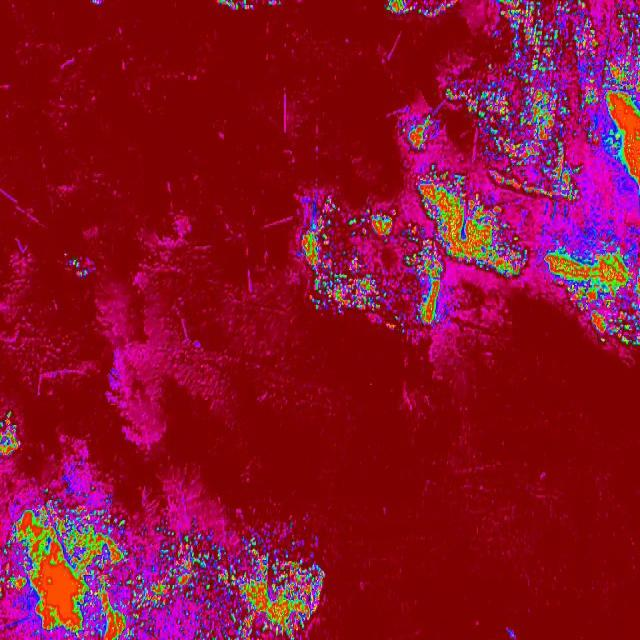fire: (301, 177, 640, 342), (0, 484, 326, 640), (410, 73, 640, 177), (493, 0, 640, 75), (384, 0, 456, 18), (0, 412, 23, 464)
